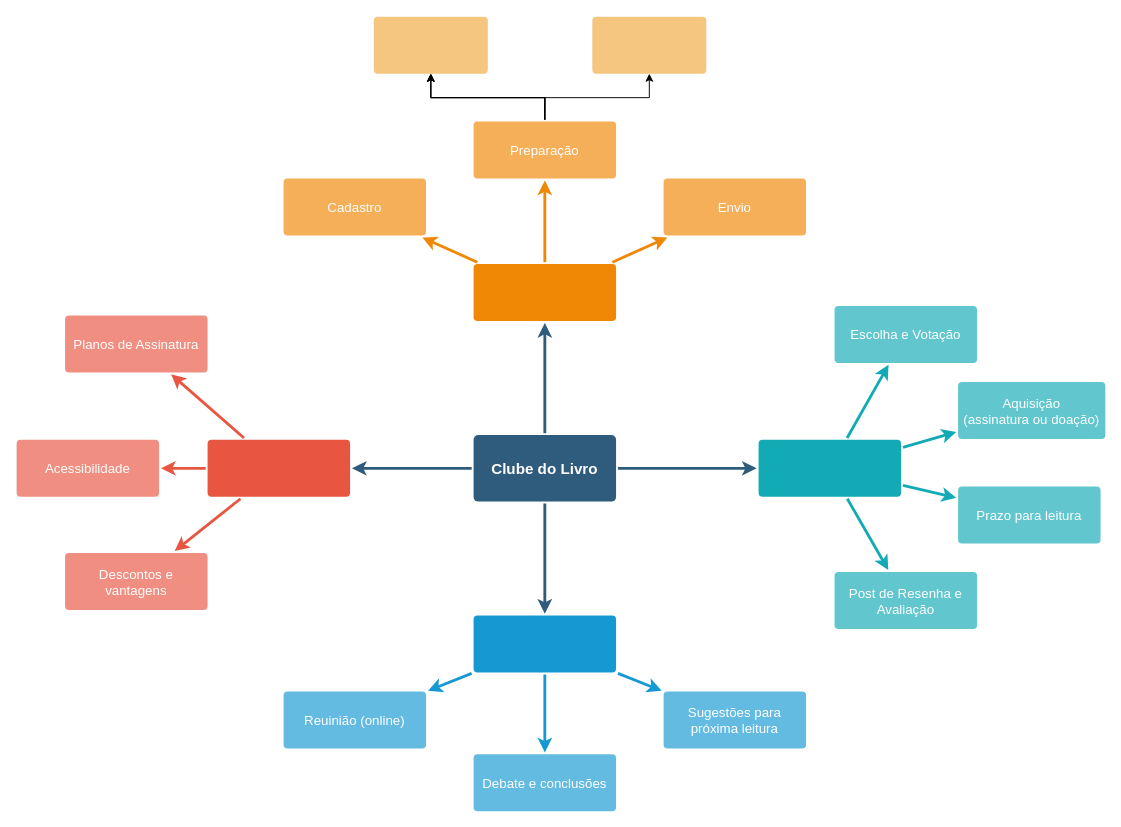
The diagram is 1121 pixels wide and 827 high, and some of its shapes have lost their labels. Each missing label, with the box of its shape:
Condições: (373, 16, 487, 73)
Discussão: (473, 615, 616, 672)
Doação: (473, 264, 616, 321)
Embrulho: (592, 16, 706, 73)
Livro do Mês: (758, 439, 901, 496)
Mensalidade: (207, 439, 350, 496)
